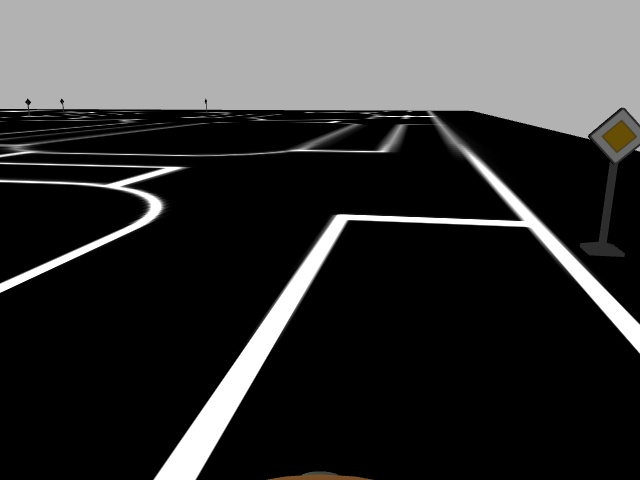priority: (586, 106, 640, 165)
